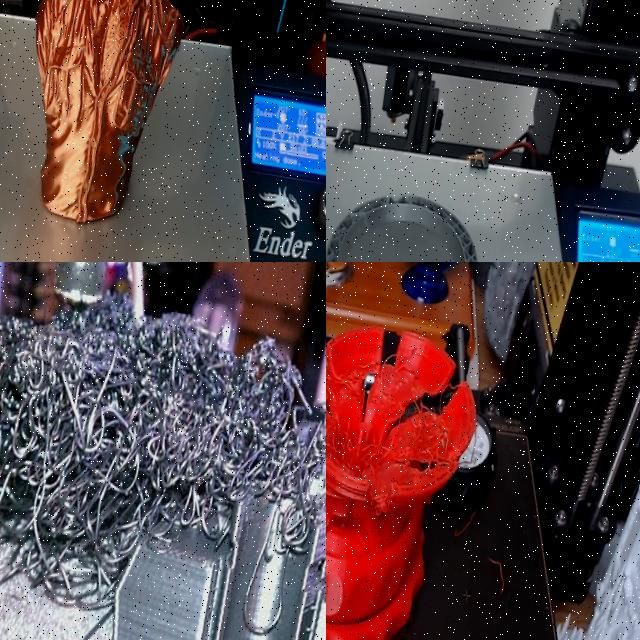spaghetti: (0, 297, 326, 600), (326, 329, 460, 494), (486, 557, 509, 598), (455, 510, 478, 539)
